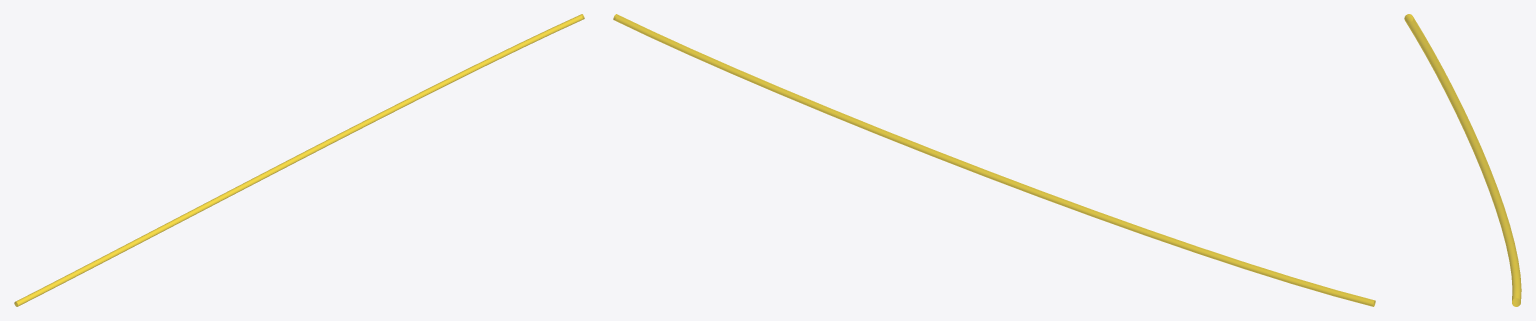
File: Event_17758602_track_110.fbx
The picture shows the model from 3 angles, left to right: view 1: azimuth 30°, elevation 25°; view 2: azimuth 150°, elevation 25°; view 3: azimuth 270°, elevation 25°; orthographic projection. The views are drawn at different scales.
Parts seen in each view (by area): view 1: Model; view 2: Model; view 3: Model.
Part boxes in pixels (x1,y1,x2,y2): Model: [14, 14, 584, 306]; Model: [613, 14, 1375, 306]; Model: [1404, 14, 1521, 306].
Bounding box in the file's own units: 4.91 × 0.9533 × 0.513.
